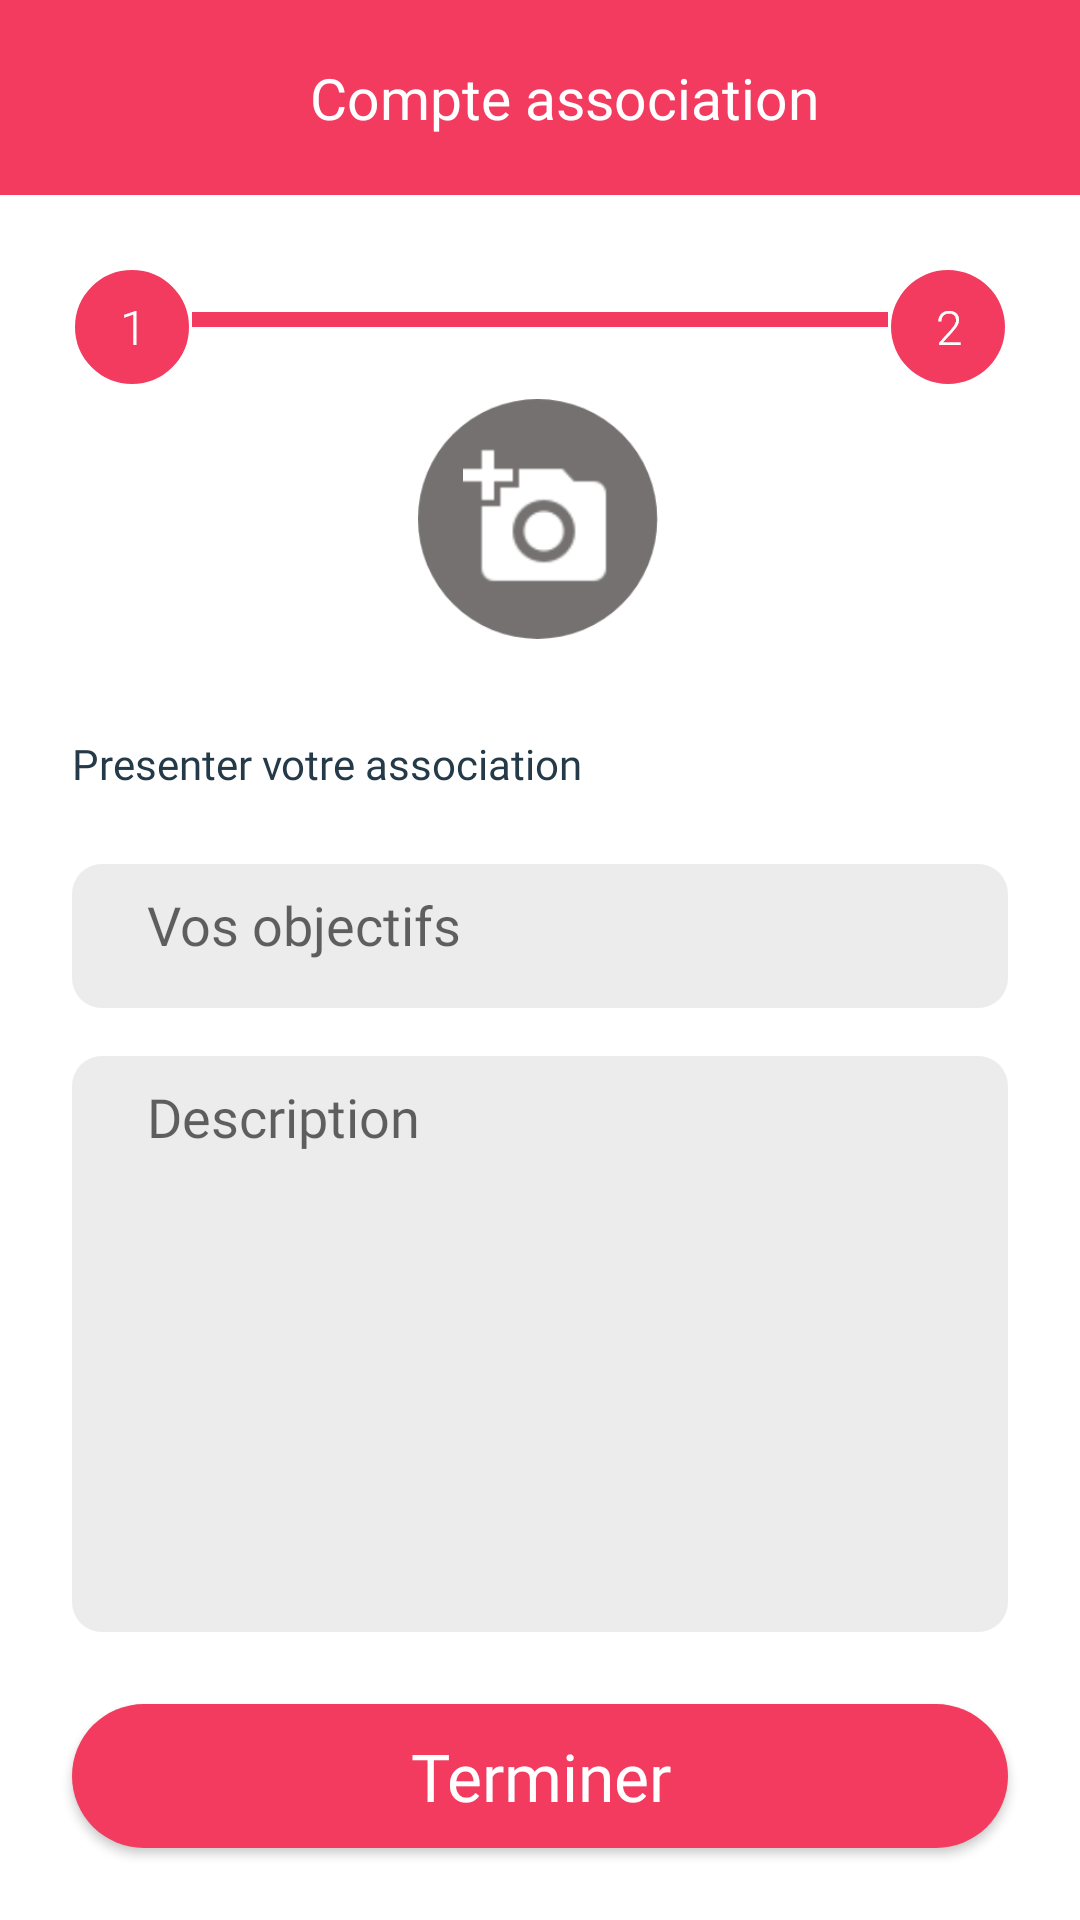

Icon bounding boxes for this 1080*1920 phone screenshot, format (x1, y1, x2, y2):
etapedeuxpink: (891, 270, 1005, 384)
etapepink: (75, 270, 189, 384)
